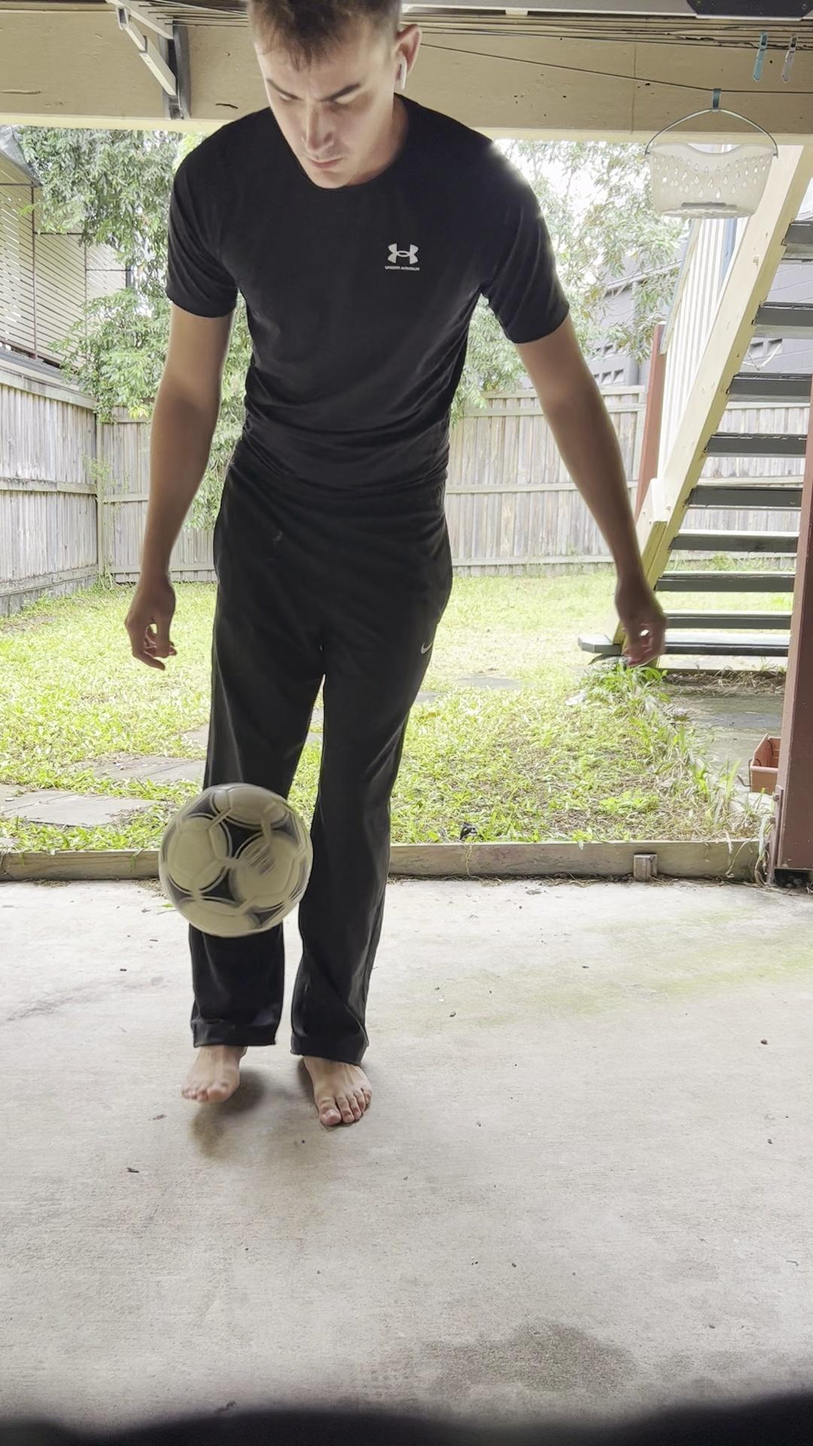ball: (156, 783, 313, 938)
foot: (302, 1055, 371, 1127), (182, 1045, 246, 1106)
person: (124, 0, 667, 1132)
